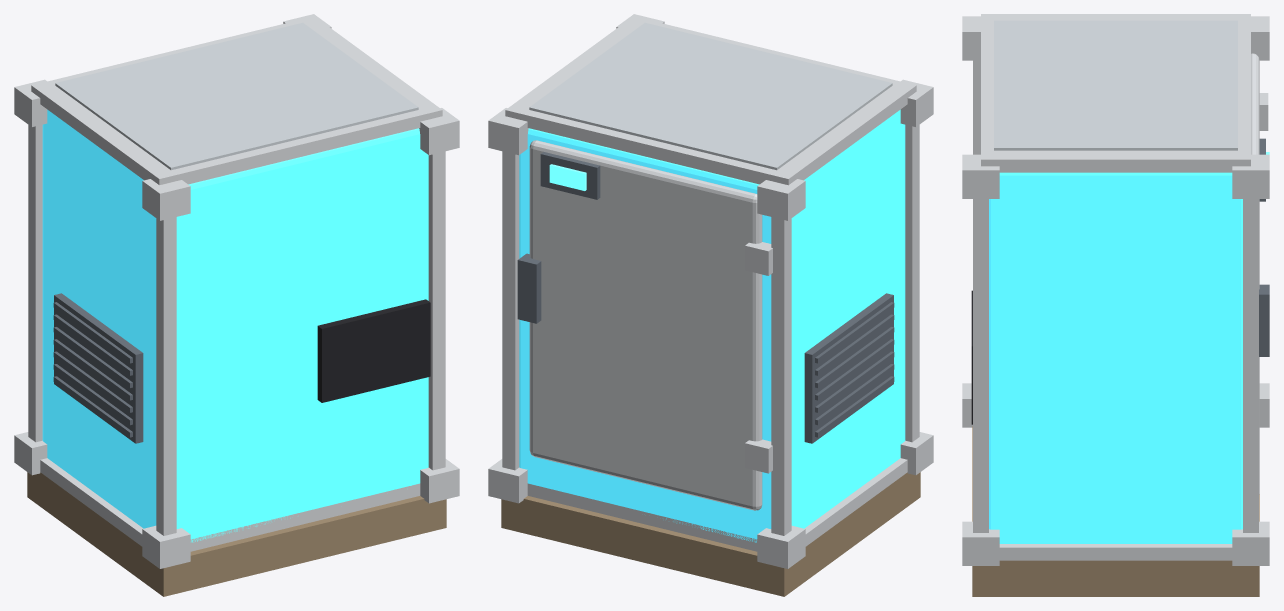
The model's file is coldbox_hi.glb.
3 views of the same model, side by side, from view 1: azimuth 30°, elevation 25°; view 2: azimuth 150°, elevation 25°; view 3: azimuth 270°, elevation 25° (orthographic). The views are drawn at different scales.
Visible parts, largest first — view 1: Body_ColdBox01_Shell, ColdBox01_Frame, ColdBox01_Lid, ColdBox01_Pallet, ColdBox01_Vent2, ColdBox01_Vent; view 2: Body_ColdBox01_Door, Body_ColdBox01_Shell, ColdBox01_Frame, ColdBox01_Lid, ColdBox01_Pallet, ColdBox01_Vent, ColdBox01_Hinges, ColdBox01_Latch, Device_ColdBox01_Panel, Device_ColdBox01_Display; view 3: Body_ColdBox01_Shell, ColdBox01_Frame, ColdBox01_Lid, ColdBox01_Pallet, Body_ColdBox01_Door, ColdBox01_Latch.
Part boxes in pixels (x1,y1,x2,y2): Body_ColdBox01_Shell: (42, 109, 428, 542); ColdBox01_Frame: (14, 14, 459, 568); ColdBox01_Lid: (55, 22, 418, 170); ColdBox01_Pallet: (27, 472, 446, 596); ColdBox01_Vent2: (317, 299, 430, 402); ColdBox01_Vent: (53, 293, 143, 443); Body_ColdBox01_Door: (529, 140, 762, 510); Body_ColdBox01_Shell: (519, 109, 905, 542); ColdBox01_Frame: (488, 14, 933, 568); ColdBox01_Lid: (529, 22, 892, 170); ColdBox01_Pallet: (501, 472, 920, 596); ColdBox01_Vent: (804, 293, 894, 443); ColdBox01_Hinges: (745, 242, 772, 473); ColdBox01_Latch: (517, 253, 541, 323); Device_ColdBox01_Panel: (540, 152, 600, 199); Device_ColdBox01_Display: (549, 164, 586, 190); Body_ColdBox01_Shell: (989, 172, 1242, 543); ColdBox01_Frame: (962, 14, 1269, 565); ColdBox01_Lid: (994, 20, 1237, 150); ColdBox01_Pallet: (972, 426, 1259, 596); Body_ColdBox01_Door: (1251, 53, 1259, 494); ColdBox01_Latch: (1259, 284, 1269, 356).
Size of the model in its own units: 1.27 by 1.69 by 1.07.
